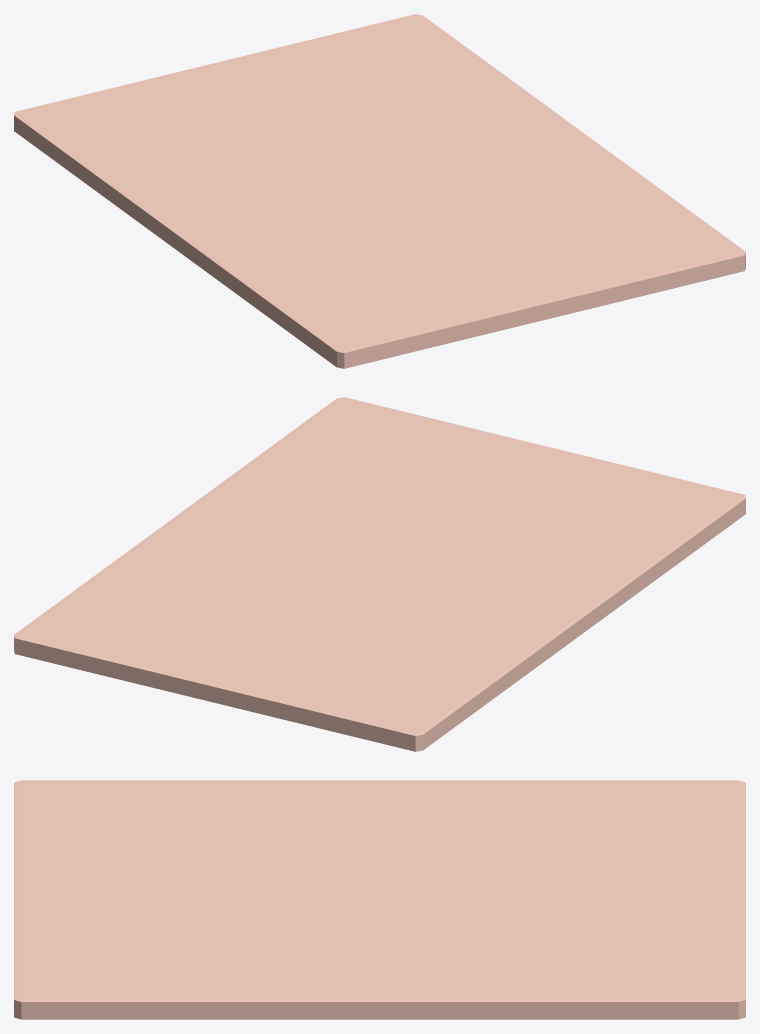
Rendered from dywan2.fbx.
3 views of the same model, one above another, from view 1: azimuth 30°, elevation 25°; view 2: azimuth 150°, elevation 25°; view 3: azimuth 270°, elevation 25° (orthographic). The views are drawn at different scales.
Parts seen in each view (by area): view 1: rug2; view 2: rug2; view 3: rug2.
Boxes of the visible parts, x1=… form: rug2: x1=14, y1=14, x2=745, y2=368; rug2: x1=14, y1=397, x2=745, y2=751; rug2: x1=14, y1=780, x2=745, y2=1019.
Bounding box in the file's own units: 744 × 28 × 1037.
